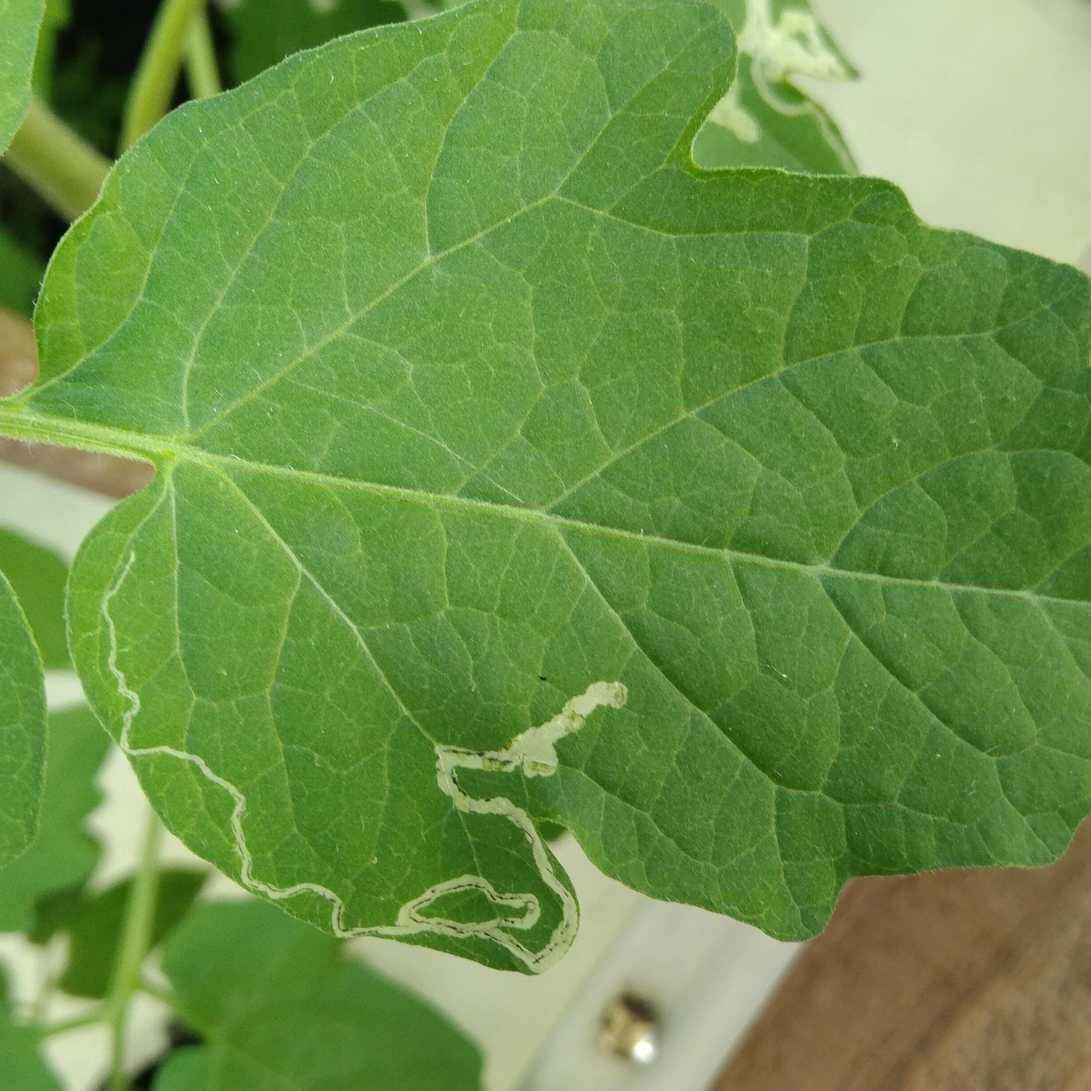Leaf_Miner: (114, 58, 660, 651)
